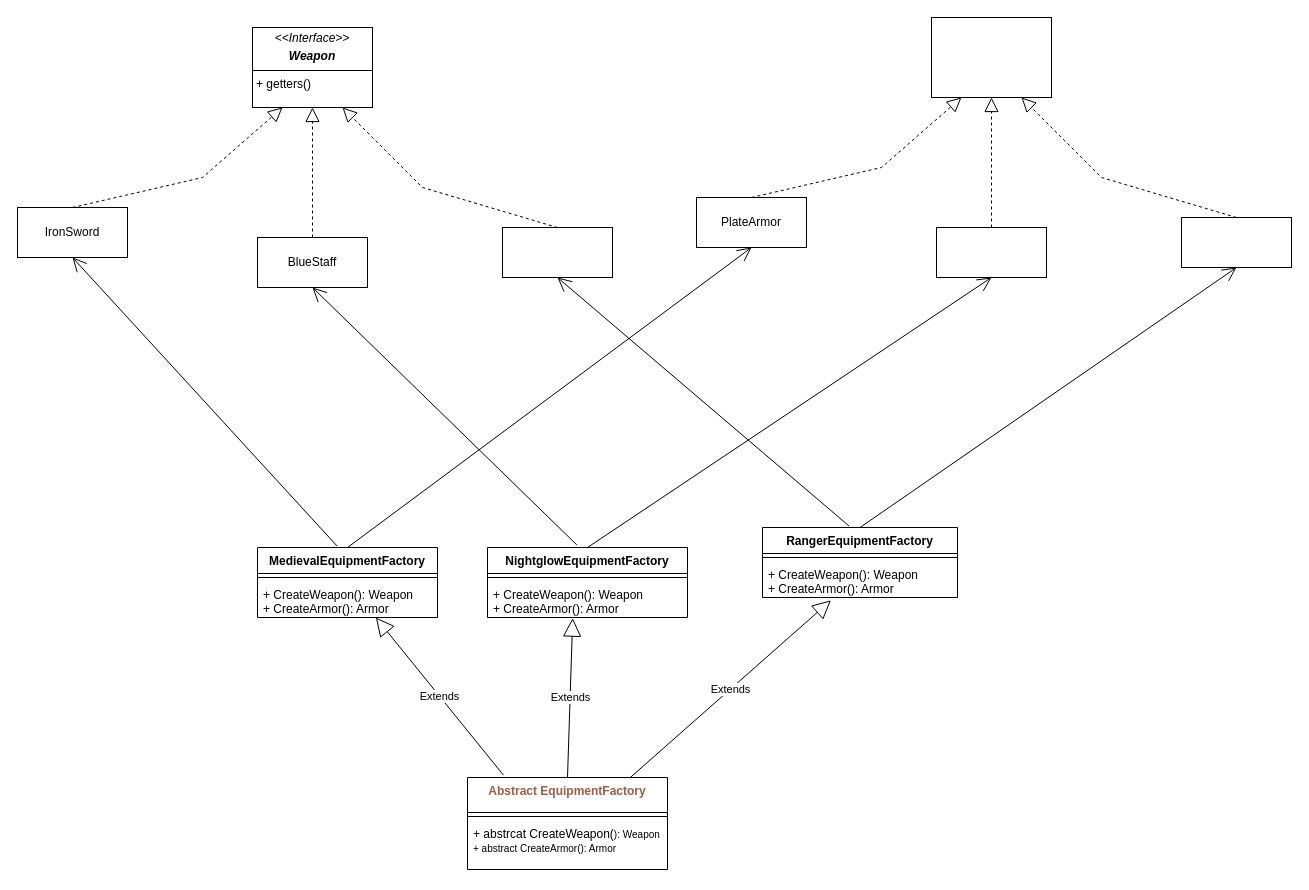
Some shapes in this 1309 by 890 pixel diagram are drawn without their labels. Each missing label, with the box of its shape:
<<Interface>> Armor + getters(): (930, 16, 1052, 98)
LongBow: (502, 226, 612, 278)
ReliableCloak: (1180, 216, 1292, 268)
StudentRobe: (936, 226, 1046, 278)
